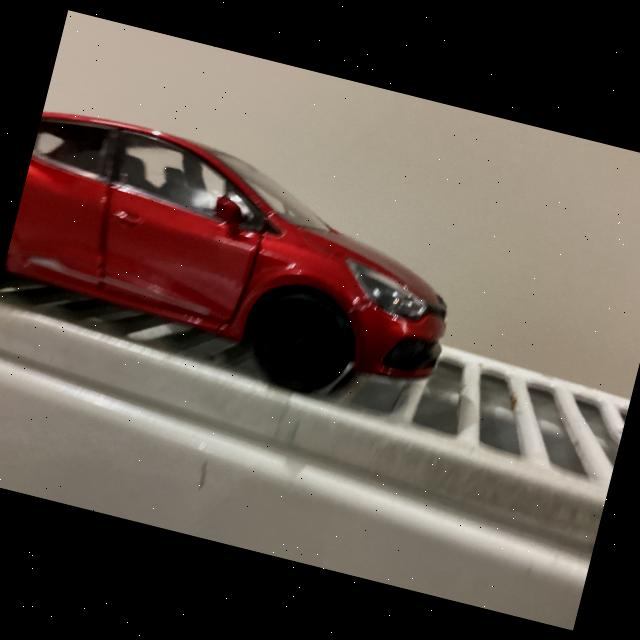Dogru_Jant: (243, 284, 360, 398)
